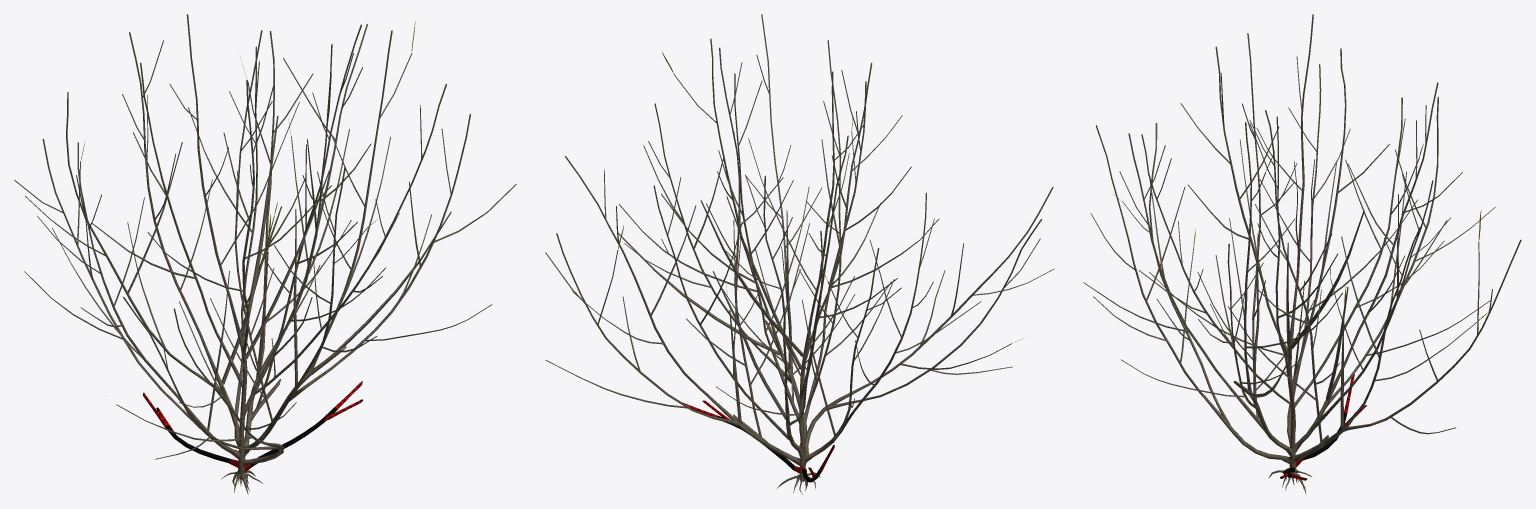
Rendered from Salix elaeagnos HD_Damaged winter mat 0_LOD1.fbx.
3 renders of one model, left to right at view 1: azimuth 30°, elevation 25°; view 2: azimuth 150°, elevation 25°; view 3: azimuth 270°, elevation 25°, orthographic. The views are drawn at different scales.
Visible parts, largest first — view 1: Salix_elaeagnos_HD; view 2: Salix_elaeagnos_HD; view 3: Salix_elaeagnos_HD.
Boxes of the visible parts, x1,y1,x2,y2 form: Salix_elaeagnos_HD: [14, 14, 516, 494]; Salix_elaeagnos_HD: [545, 14, 1054, 494]; Salix_elaeagnos_HD: [1083, 14, 1521, 494].
Size of the model in its own units: 0.4754 by 0.5184 by 0.4544.
